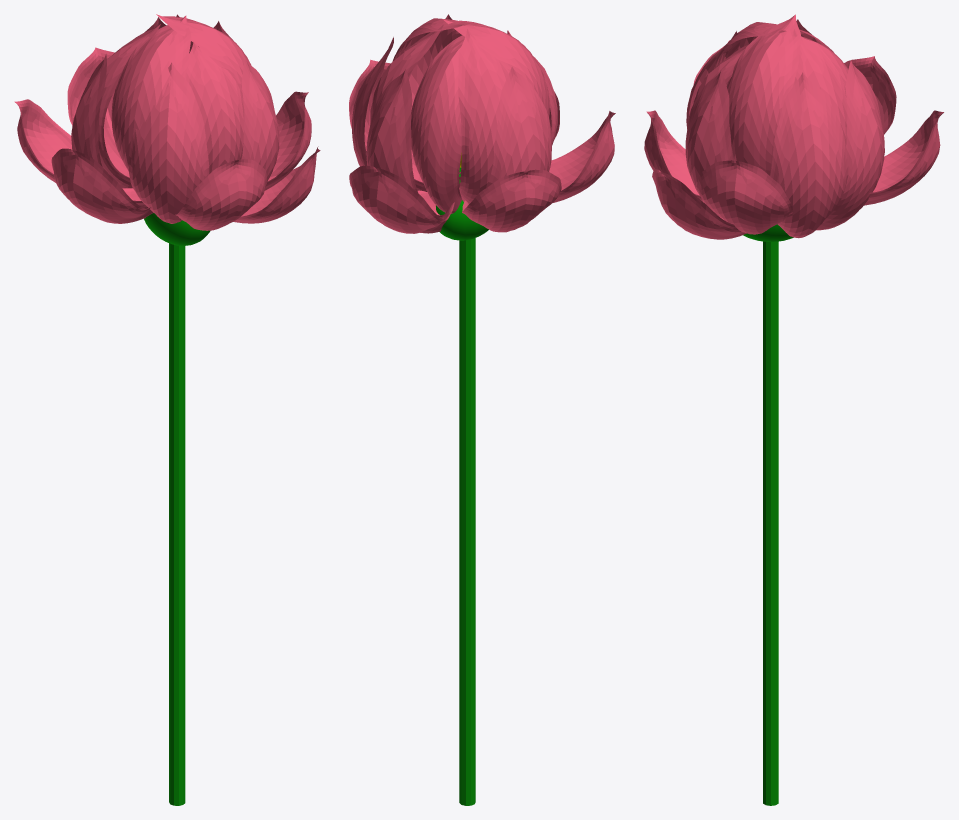
Rendered from Lotus046.fbx.
3 renders of one model, left to right at view 1: azimuth 30°, elevation 25°; view 2: azimuth 150°, elevation 25°; view 3: azimuth 270°, elevation 25°, orthographic.
Parts seen in each view (by area): view 1: pCylinder1, nurbsToPoly16, nurbsToPoly21, nurbsToPoly18, nurbsToPoly11, nurbsToPoly8, nurbsToPoly13, nurbsToPoly12, nurbsToPoly20, nurbsToPoly9, nurbsToPoly24, nurbsToPoly14 (+3 smaller); view 2: pCylinder1, nurbsToPoly23, nurbsToPoly20, nurbsToPoly14, nurbsToPoly12, nurbsToPoly10, nurbsToPoly17, nurbsToPoly11, nurbsToPoly21, nurbsToPoly22, nurbsToPoly15, nurbsToPoly19 (+2 smaller); view 3: pCylinder1, nurbsToPoly15, nurbsToPoly22, nurbsToPoly17, nurbsToPoly9, nurbsToPoly13, nurbsToPoly10, nurbsToPoly24, nurbsToPoly19, nurbsToPoly8, nurbsToPoly12, nurbsToPoly21 (+2 smaller).
Part boxes in pixels (x1=…): pCylinder1: x1=169, y1=243, x2=185, y2=805; nurbsToPoly16: x1=128, y1=62, x2=209, y2=223; nurbsToPoly21: x1=111, y1=15, x2=191, y2=170; nurbsToPoly18: x1=184, y1=41, x2=244, y2=173; nurbsToPoly11: x1=51, y1=148, x2=153, y2=223; nurbsToPoly8: x1=175, y1=159, x2=266, y2=230; nurbsToPoly13: x1=241, y1=58, x2=279, y2=181; nurbsToPoly12: x1=14, y1=99, x2=126, y2=188; nurbsToPoly20: x1=98, y1=24, x2=160, y2=188; nurbsToPoly9: x1=264, y1=91, x2=311, y2=190; nurbsToPoly24: x1=233, y1=146, x2=320, y2=223; nurbsToPoly14: x1=71, y1=54, x2=148, y2=218; pCylinder1: x1=459, y1=238, x2=475, y2=805; nurbsToPoly23: x1=411, y1=35, x2=464, y2=213; nurbsToPoly20: x1=458, y1=29, x2=509, y2=203; nurbsToPoly14: x1=487, y1=66, x2=551, y2=187; nurbsToPoly12: x1=462, y1=170, x2=561, y2=232; nurbsToPoly10: x1=349, y1=165, x2=454, y2=233; nurbsToPoly17: x1=366, y1=69, x2=446, y2=233; nurbsToPoly11: x1=549, y1=111, x2=615, y2=202; nurbsToPoly21: x1=443, y1=19, x2=549, y2=117; nurbsToPoly22: x1=392, y1=18, x2=469, y2=179; nurbsToPoly15: x1=352, y1=37, x2=393, y2=166; nurbsToPoly19: x1=370, y1=24, x2=443, y2=191; pCylinder1: x1=763, y1=241, x2=778, y2=805; nurbsToPoly15: x1=770, y1=72, x2=848, y2=238; nurbsToPoly22: x1=726, y1=14, x2=800, y2=175; nurbsToPoly17: x1=816, y1=60, x2=884, y2=230; nurbsToPoly9: x1=696, y1=160, x2=793, y2=234; nurbsToPoly13: x1=685, y1=70, x2=732, y2=218; nurbsToPoly10: x1=864, y1=110, x2=943, y2=205; nurbsToPoly24: x1=652, y1=169, x2=746, y2=239; nurbsToPoly19: x1=792, y1=29, x2=847, y2=146; nurbsToPoly8: x1=644, y1=110, x2=703, y2=201; nurbsToPoly12: x1=844, y1=56, x2=896, y2=134; nurbsToPoly21: x1=713, y1=22, x2=786, y2=85.
Bounding box in the file's own units: 17.21 × 52.82 × 18.33.
